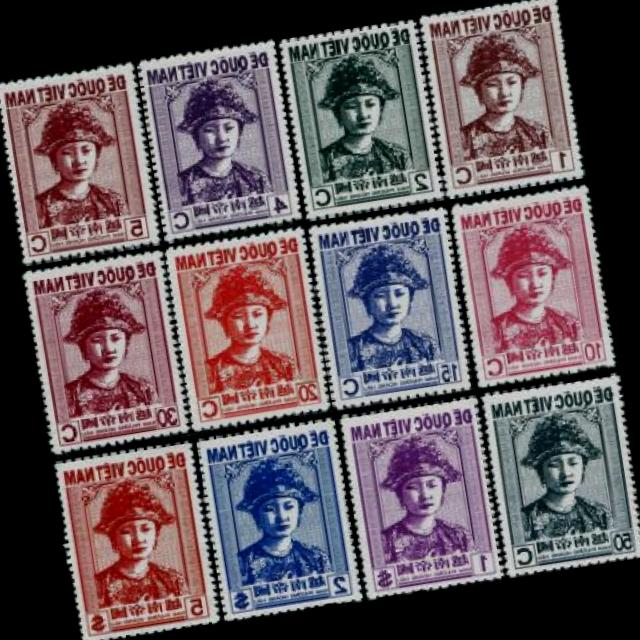Person: (303, 50, 420, 196), (46, 281, 162, 421), (77, 470, 192, 608), (18, 90, 132, 229), (446, 21, 556, 165), (474, 214, 586, 353), (222, 449, 334, 588), (330, 232, 441, 372), (368, 428, 480, 566), (191, 258, 303, 394), (506, 403, 614, 543), (165, 74, 272, 208)
